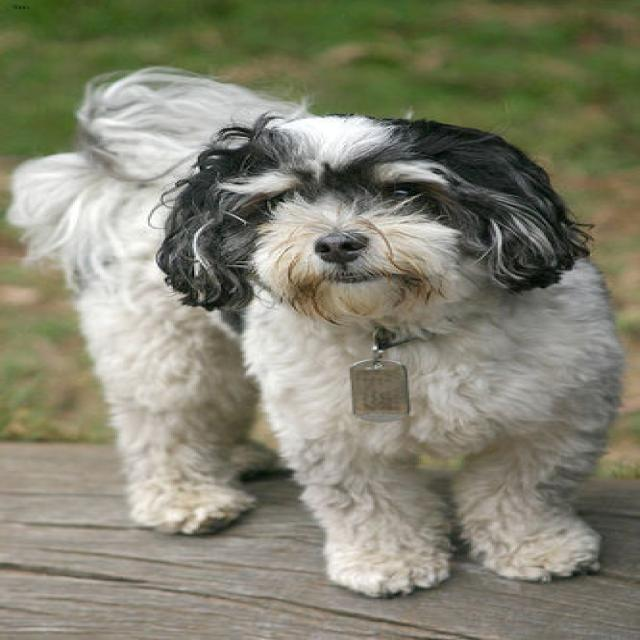dog-havanese: (2, 59, 630, 608)
